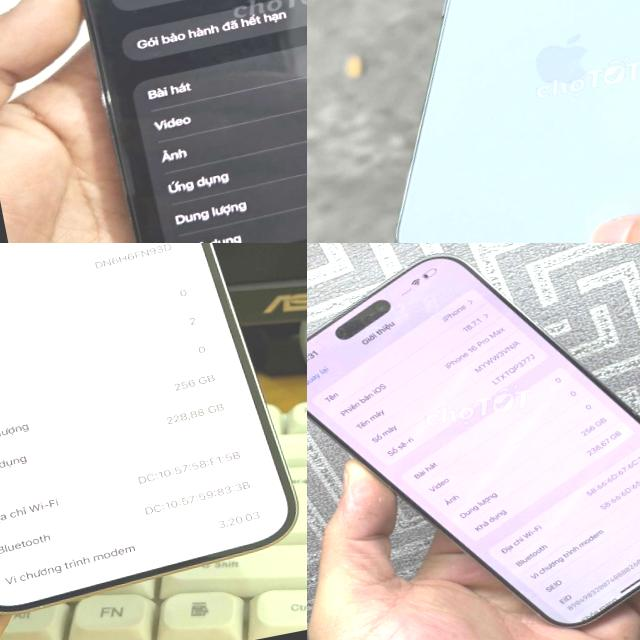gen_12_13: (30, 0, 307, 243)
gen_15: (0, 243, 307, 640)
gen_16: (307, 254, 640, 626)
gen_17: (322, 0, 640, 243)
